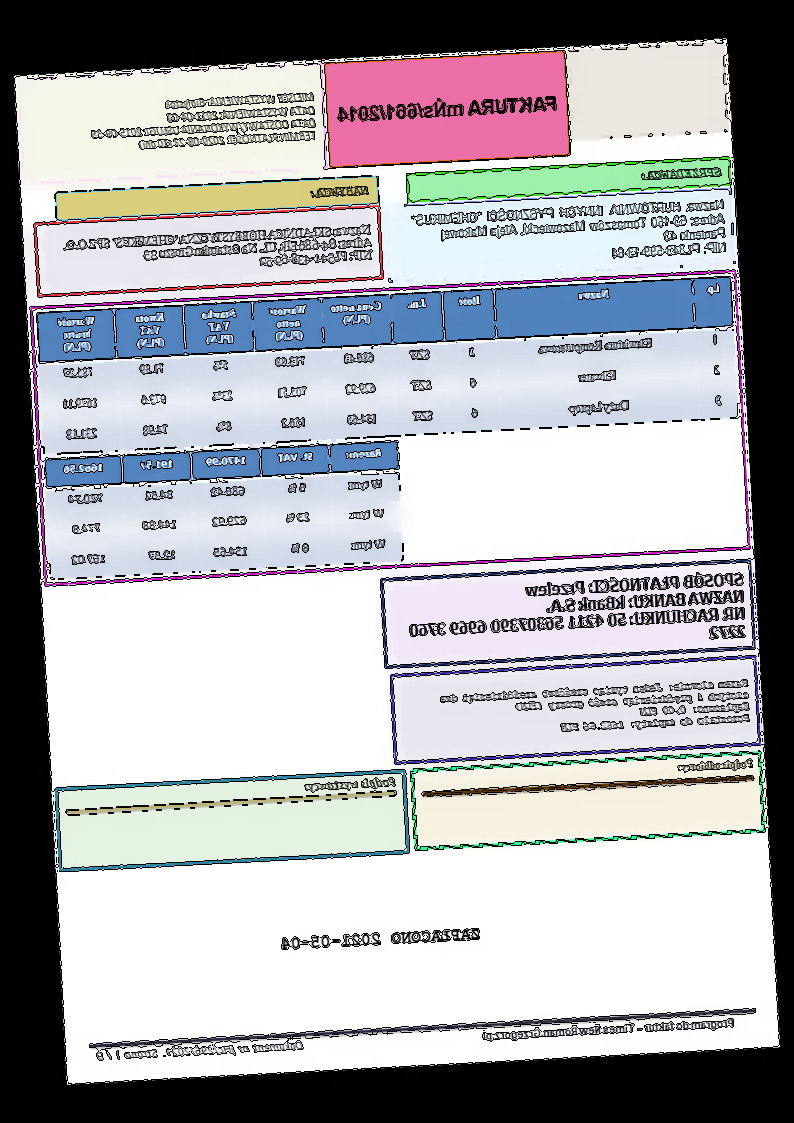Table: (36, 275, 739, 456), (43, 439, 406, 581)
TextBox: (406, 569, 749, 658), (408, 195, 729, 272), (437, 675, 753, 741), (61, 221, 375, 279), (88, 89, 318, 154), (335, 91, 558, 124), (481, 1016, 736, 1044), (279, 924, 482, 953), (95, 1038, 306, 1063), (303, 776, 398, 794), (640, 165, 723, 182), (678, 756, 755, 774), (309, 184, 372, 200)
